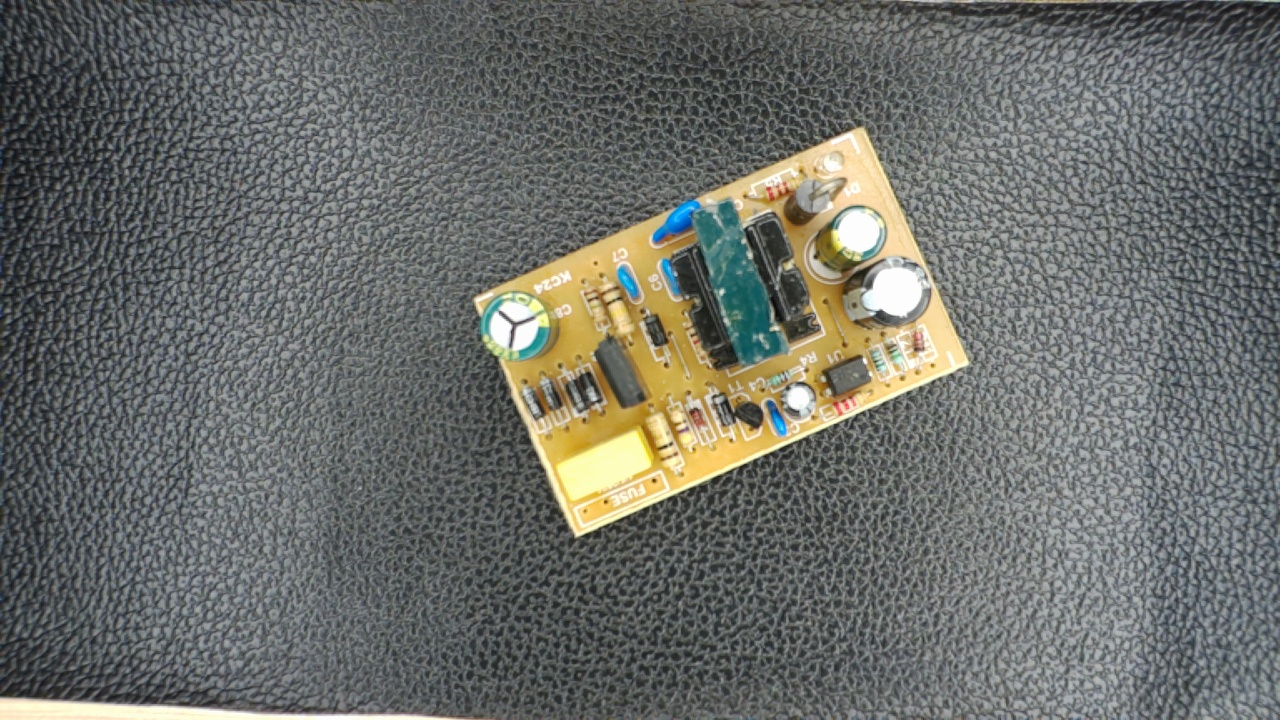hv_capacitor: (479, 291, 561, 363)
mov: (647, 203, 716, 245)
optocoupler: (816, 356, 873, 395)
